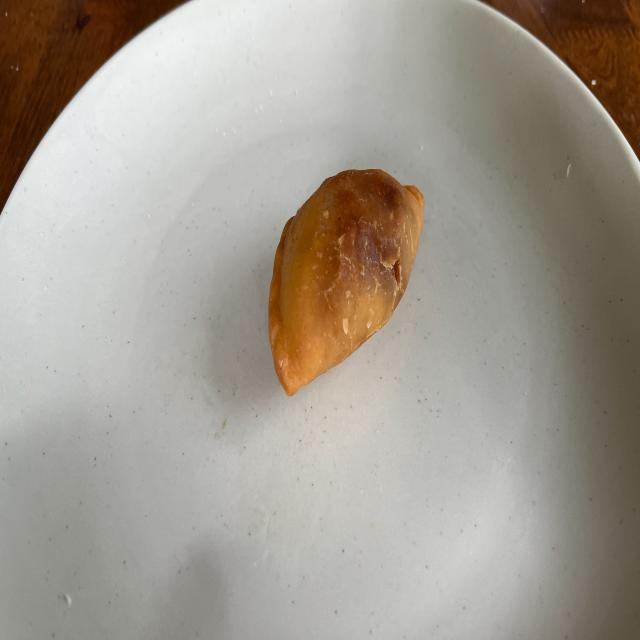karipap: (269, 169, 424, 396)
